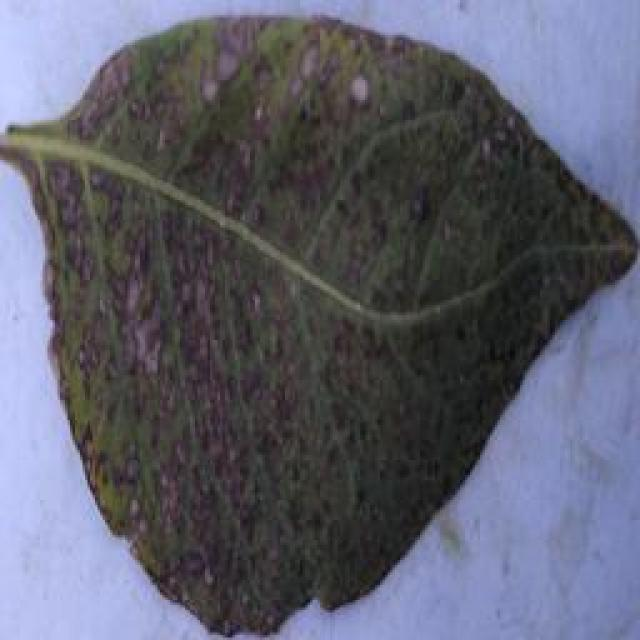Potato_Early_Blight: (19, 10, 640, 629)
